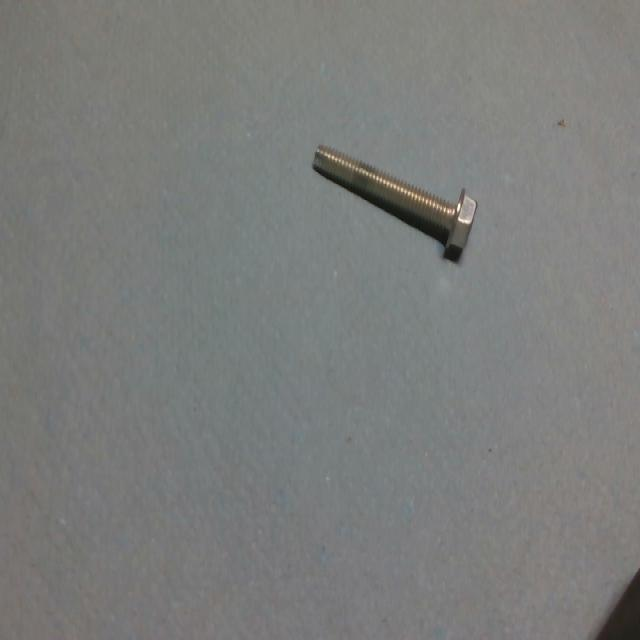Bolt: (302, 134, 484, 270)
